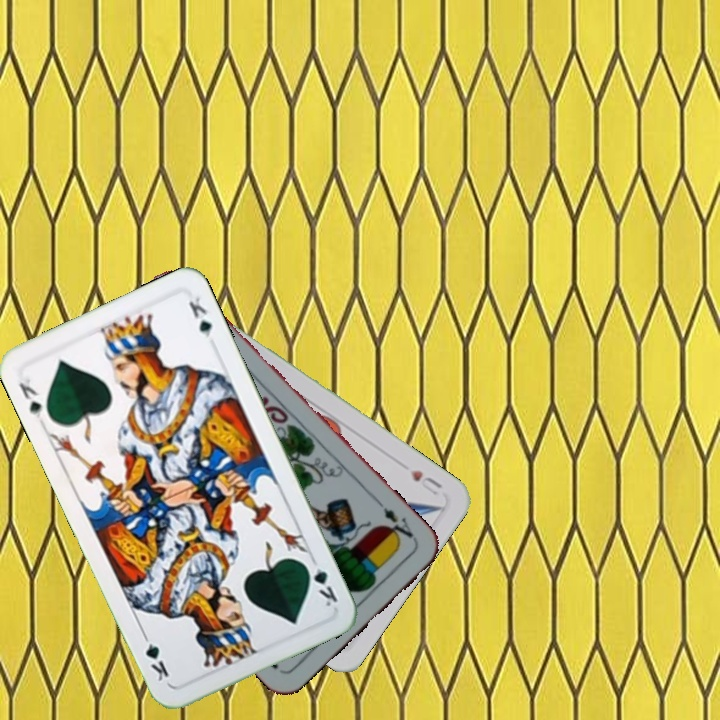EA: (379, 503, 418, 546)
GK: (300, 553, 341, 609), (15, 374, 54, 421)
HU: (406, 465, 445, 498)
